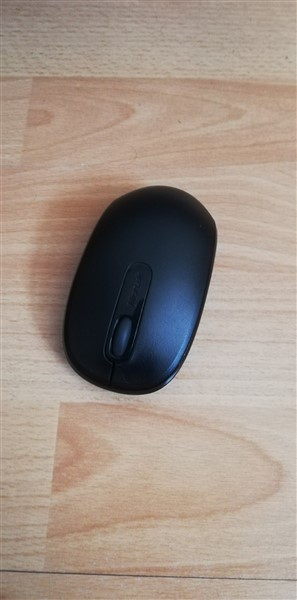mouse: (56, 175, 226, 403)
